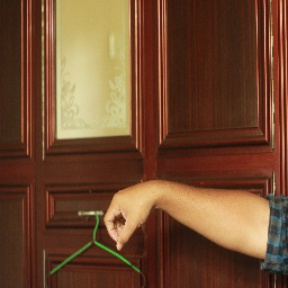O: (101, 182, 159, 251)
